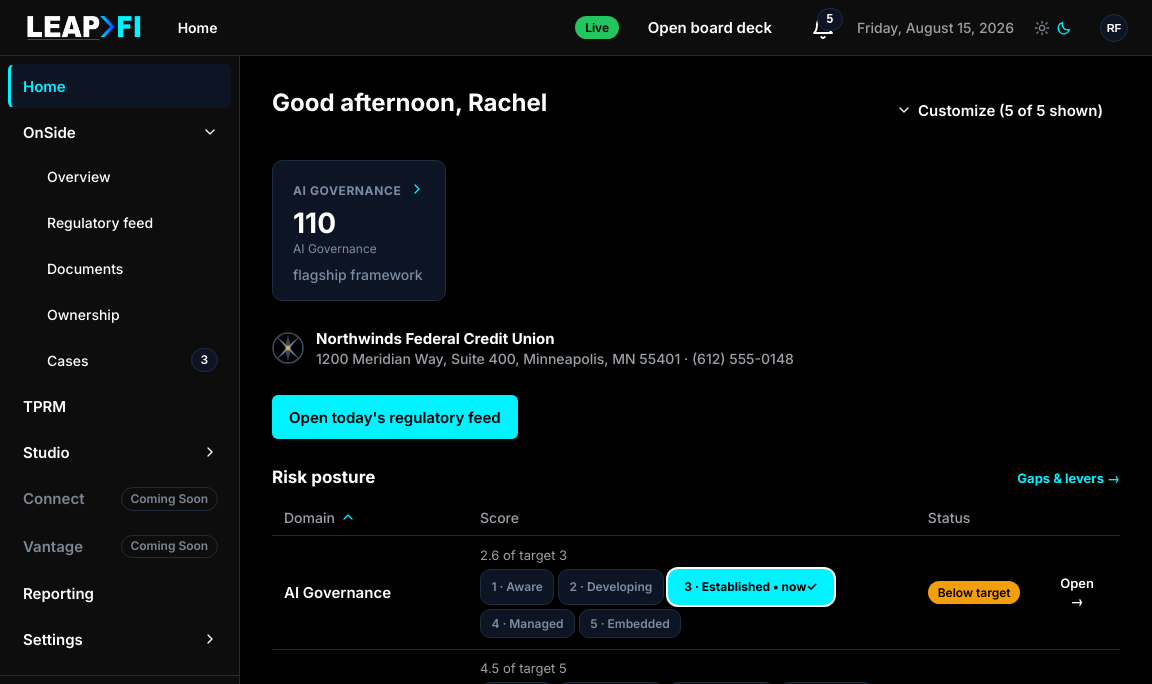
Test: Home customization: visibleKeys flow bar -> panels (base 4122–4193) › toggling a panel off in the bar removes exactly that panel and updates the shown count (homePanelToggle, 4149–4172)
Click the button "Customize (5 of 5 shown)". click: coordinates (999, 110)
box: [879, 88, 1120, 132]
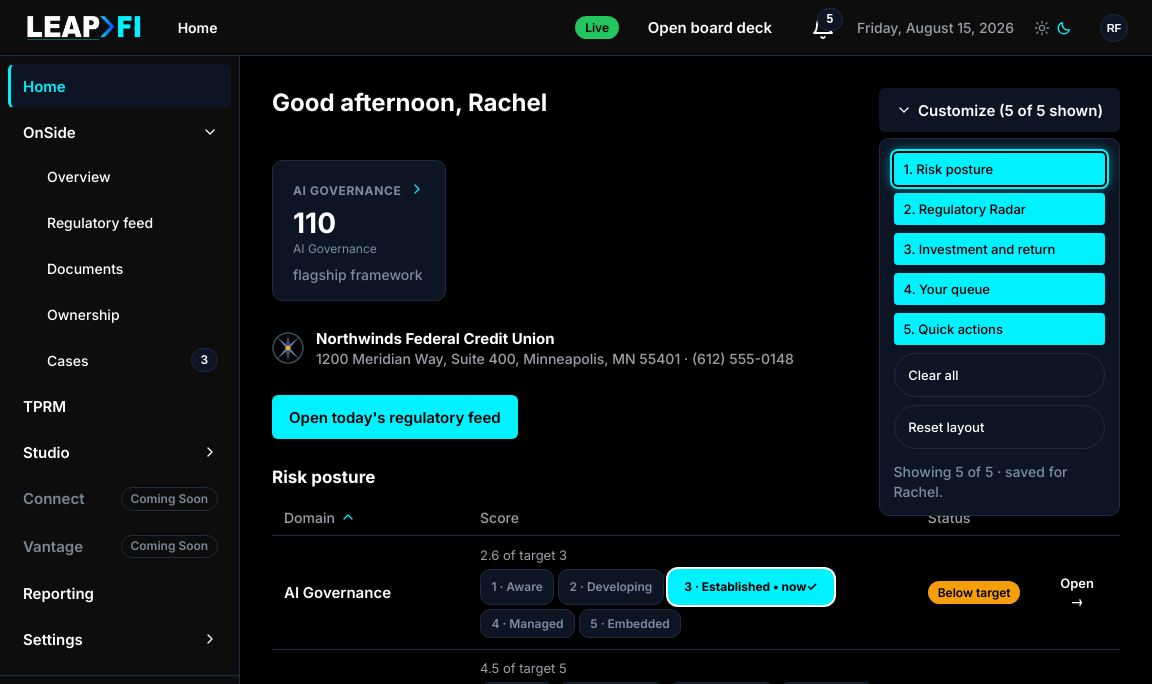
Click the button "1. Risk posture". click: coordinates (999, 169)
box: [894, 153, 1105, 185]
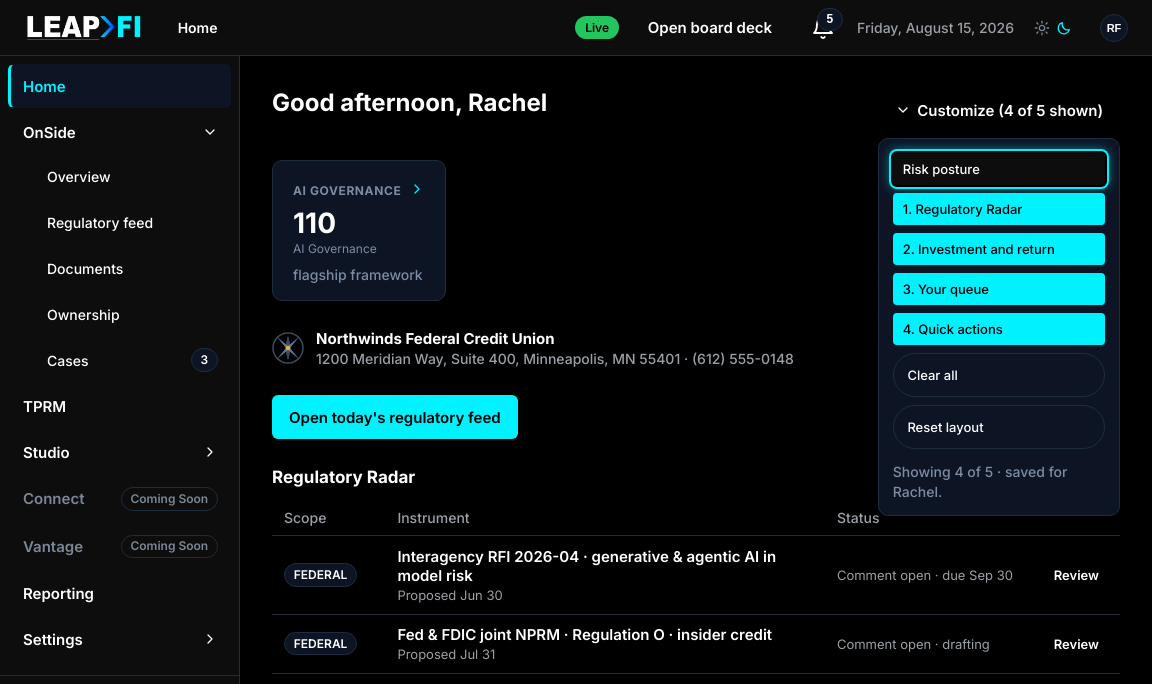
Check: the button "Customize (4 of 5 shown)" is shown, box [878, 88, 1120, 132]
